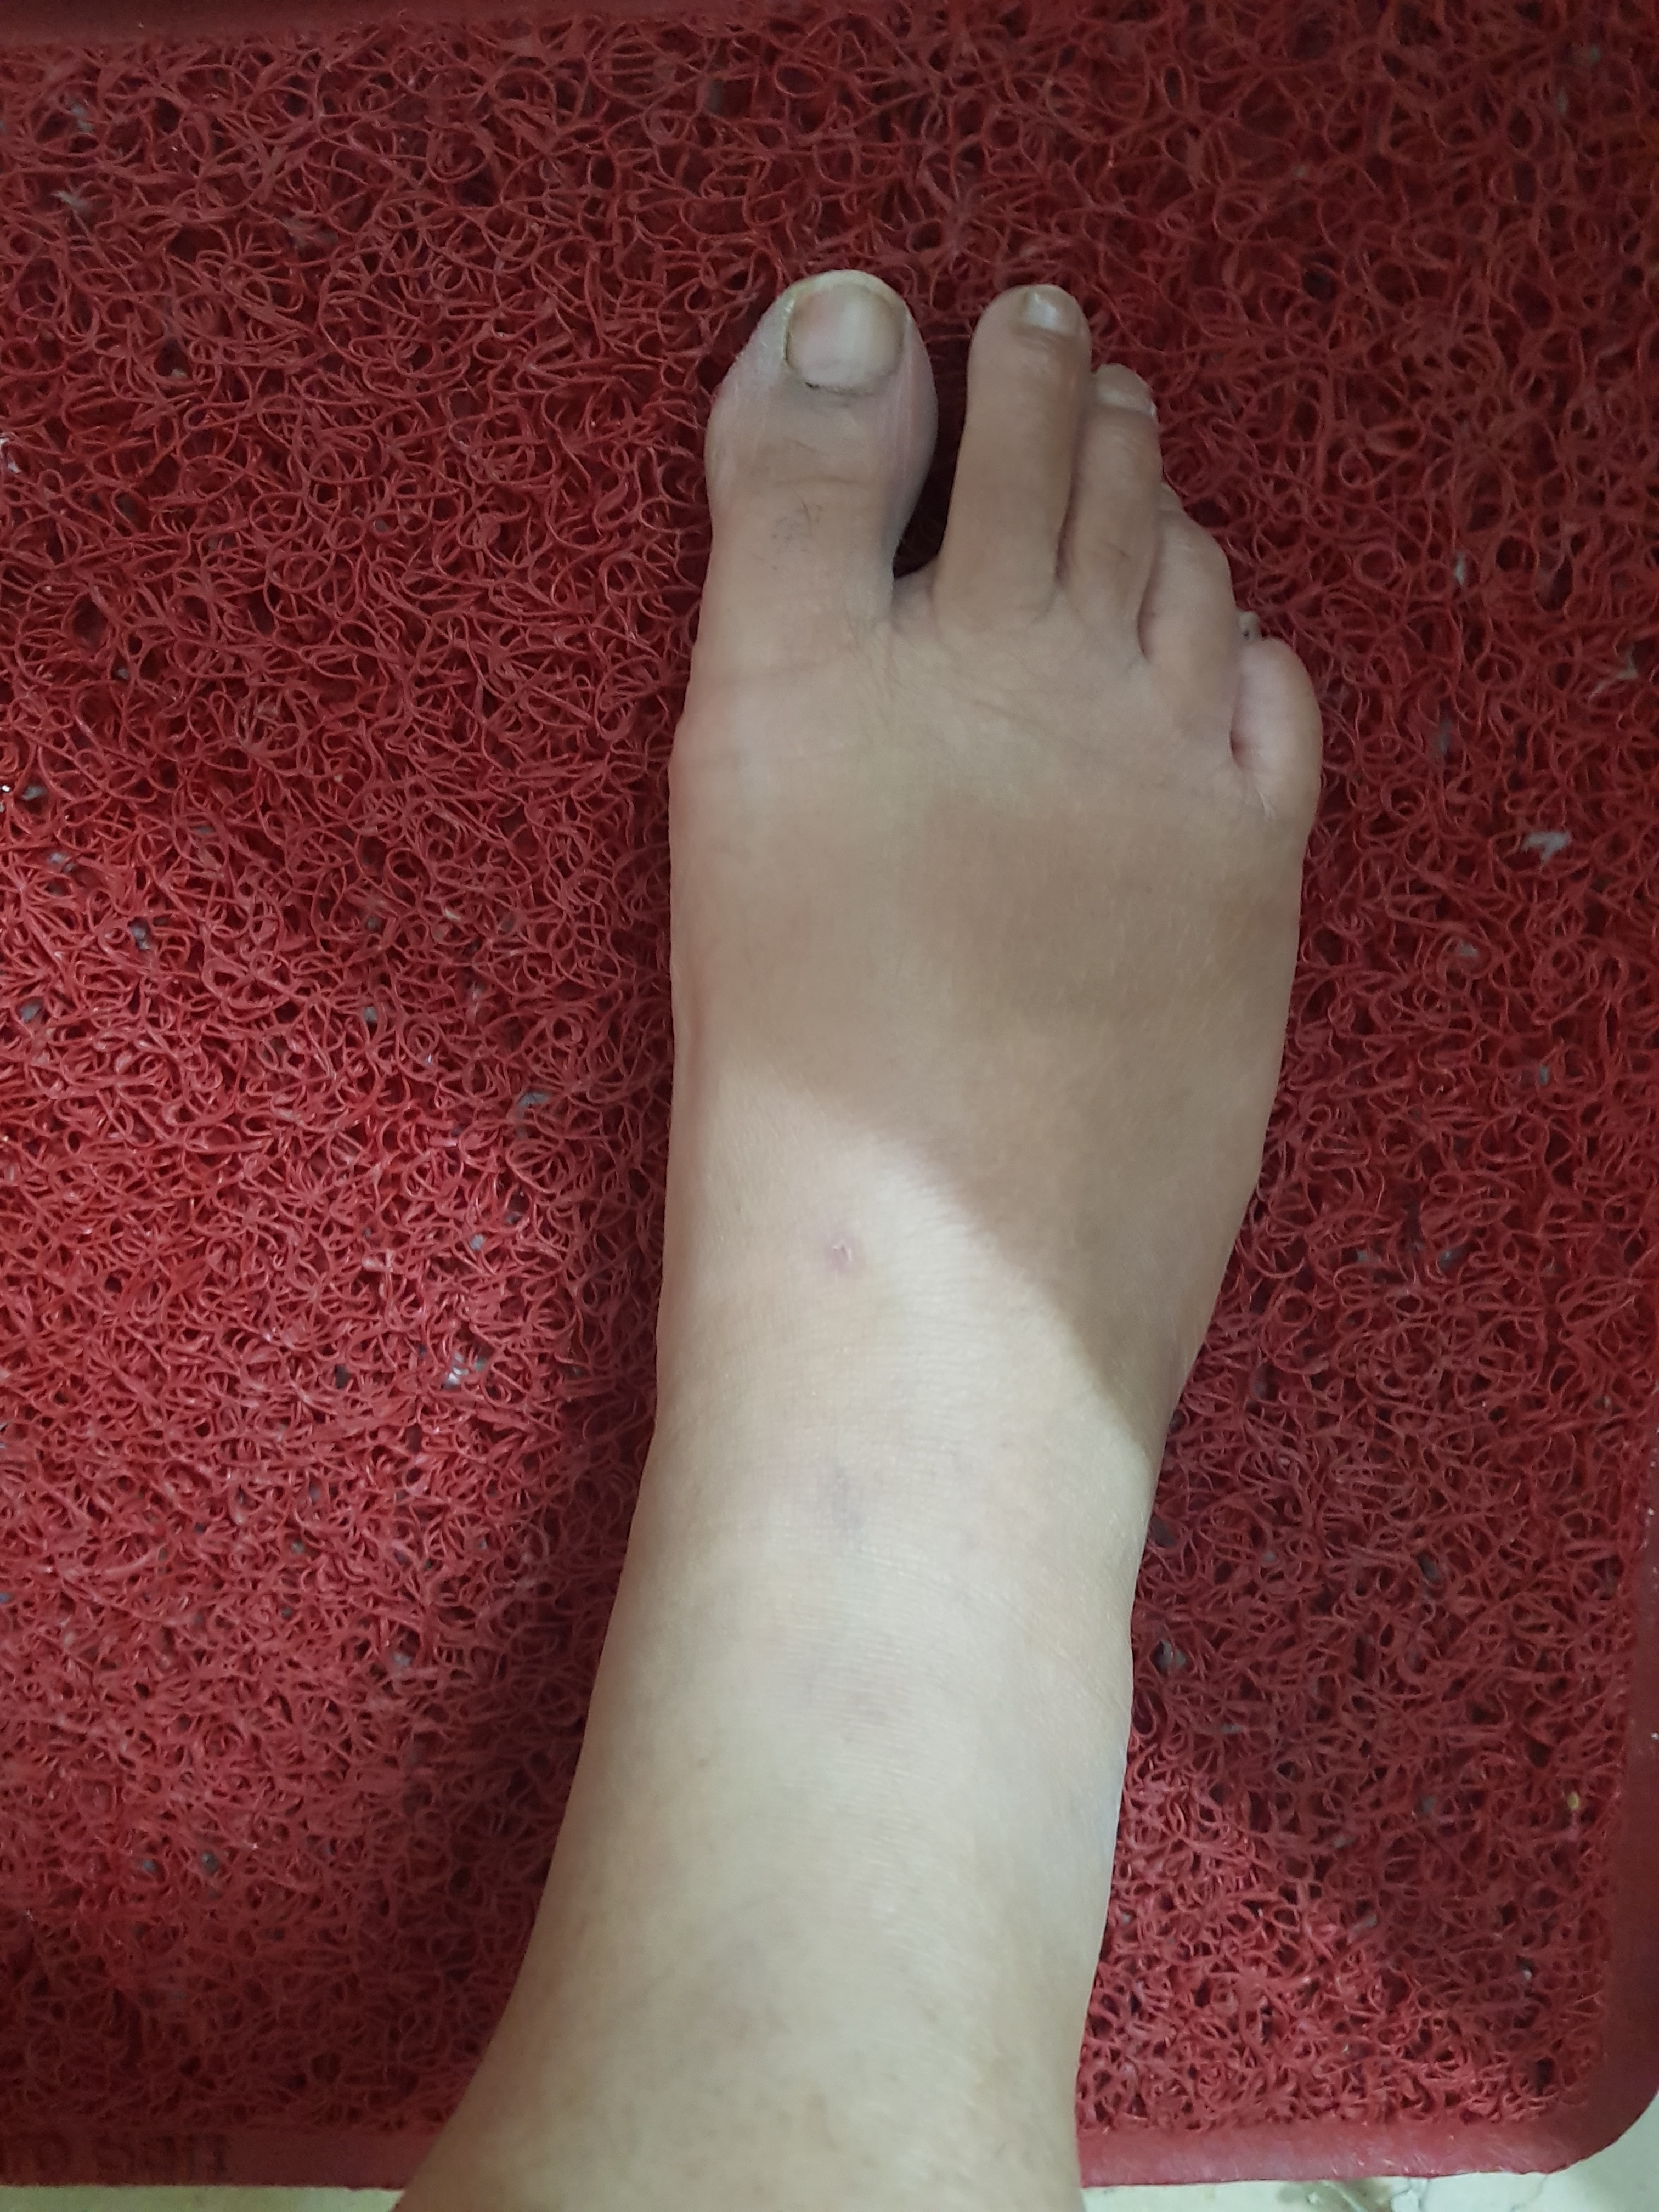feet: (518, 211, 1349, 2026)
